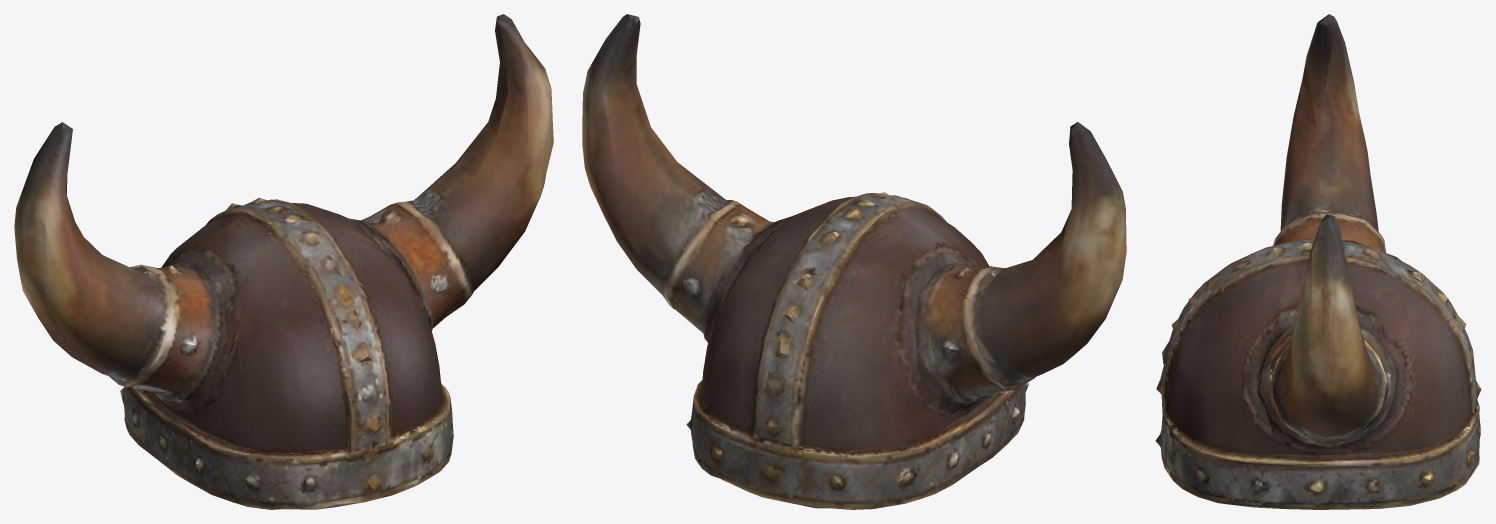
File: viking_helmet.glb
3 views of the same model, side by side, from view 1: azimuth 30°, elevation 25°; view 2: azimuth 150°, elevation 25°; view 3: azimuth 270°, elevation 25° (orthographic). The views are drawn at different scales.
Visible parts, largest first — view 1: viking_helmet; view 2: viking_helmet; view 3: viking_helmet.
Boxes of the visible parts, <box> form: viking_helmet: <box>14,14,553,509</box>; viking_helmet: <box>582,14,1126,509</box>; viking_helmet: <box>1155,14,1481,509</box>.
Size of the model in its own units: 2.4 by 1.59 by 1.38.
Materials: 1 (1 with a texture image).
